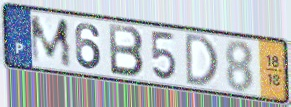5: (150, 29, 179, 82)
6: (73, 21, 104, 71)
8: (223, 38, 256, 95)
B: (107, 22, 146, 80)
D: (183, 31, 220, 88)
M: (27, 15, 74, 69)
